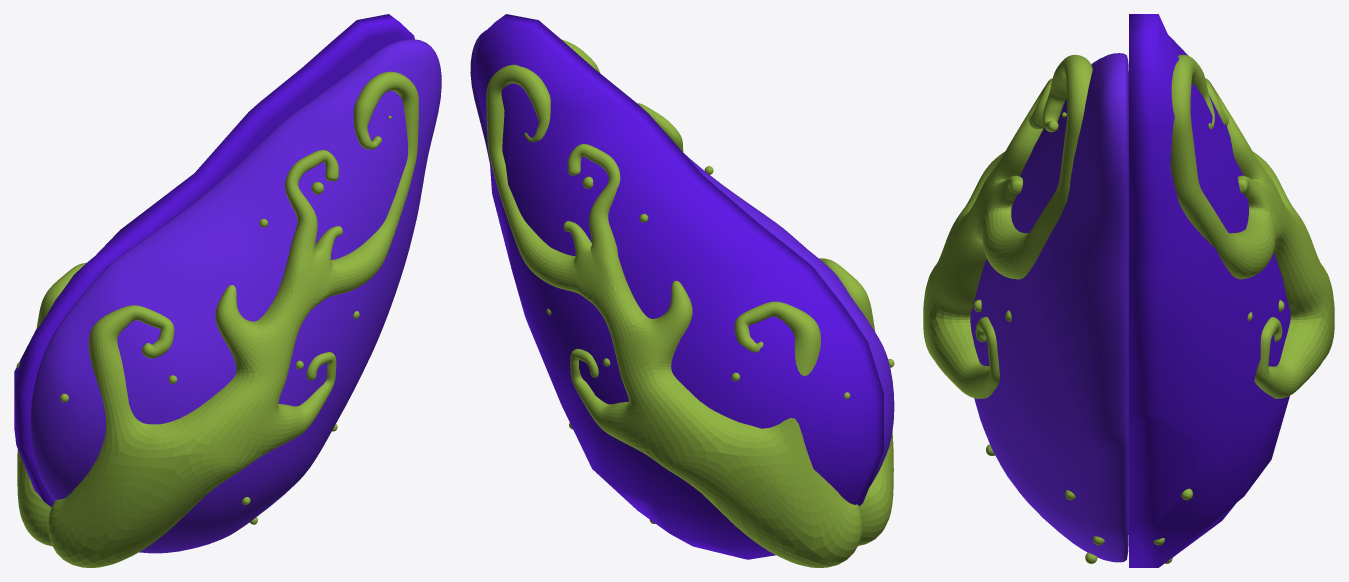
Rendered from TrySeed.fbx.
The picture shows the model from 3 angles, left to right: view 1: azimuth 30°, elevation 25°; view 2: azimuth 150°, elevation 25°; view 3: azimuth 270°, elevation 25°; orthographic projection. The views are drawn at different scales.
Visible parts, largest first — view 1: Seed.011; view 2: Seed.011; view 3: Seed.011.
Boxes of the visible parts, bbox=[...] form: Seed.011: bbox=[14, 14, 441, 567]; Seed.011: bbox=[470, 14, 894, 567]; Seed.011: bbox=[923, 14, 1334, 567].
Size of the model in its own units: 298 by 328 by 186.
